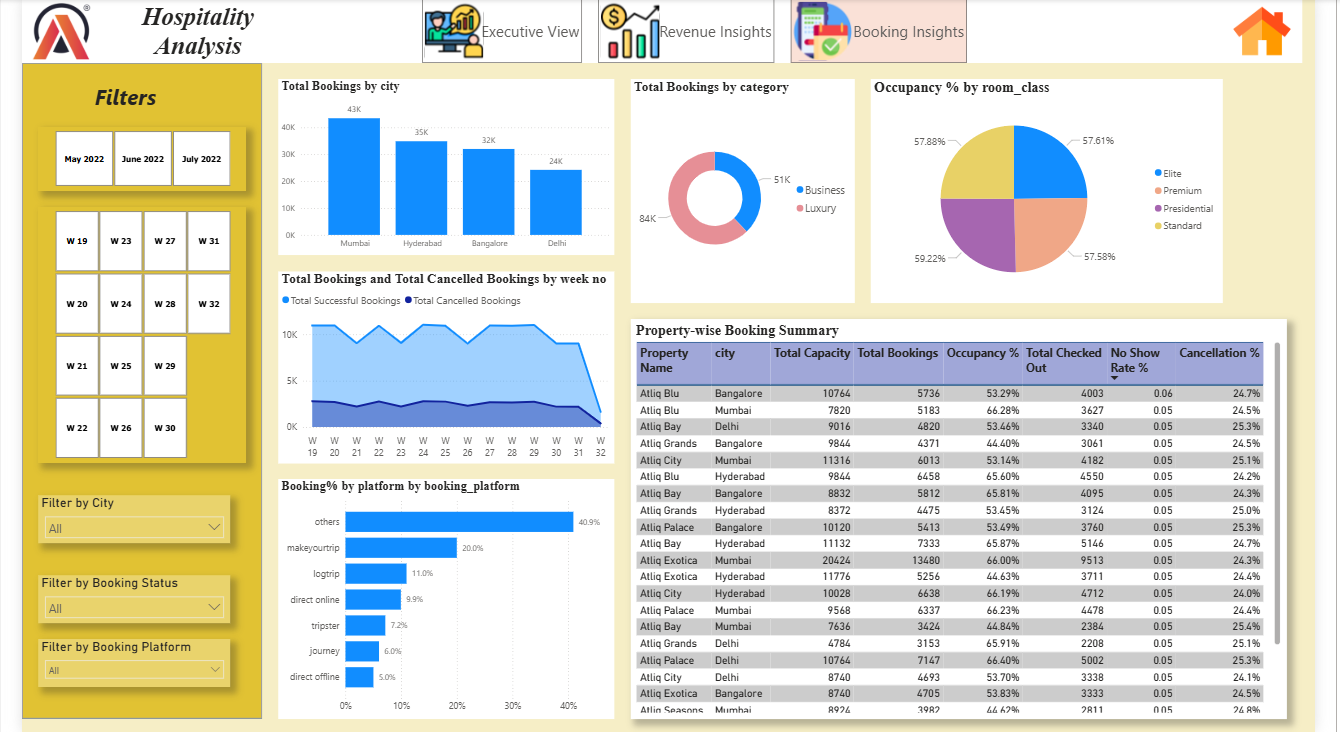

Layout of this report page (visuals, bound fields, positions):
{"tool":"powerbi","page":{"name":"Booking Insights","canvas":[1940,1100],"ordinal":3},"visuals":[{"type":"shape","box":[0,96,360,984],"z":0},{"type":"textbox","box":[0,0,1920,96],"z":1000},{"type":"slicer","title":"Filter by City","fields":{"Values":["dim_hotels.city"]},"box":[24,744,288,72],"z":2000},{"type":"slicer","title":"Filter by Booking Status","fields":{"Values":["fact_bookings.booking_status"]},"box":[24,864,288,72],"z":3000},{"type":"slicer","title":"Filter by Booking Platform","fields":{"Values":["fact_bookings.booking_platform"]},"box":[24,960,288,72],"z":4000},{"type":"slicer","fields":{"Values":["dim_date.mmm yyyy"]},"box":[24,192,312,96],"z":5000},{"type":"slicer","fields":{"Values":["dim_date.week no"]},"box":[24,312,312,384],"z":6000},{"type":"image","box":[0,0,120,96],"z":7000},{"type":"image","box":[1800,0,120,96],"z":8000},{"type":"textbox","box":[120,0,288,96],"z":9000},{"type":"actionButton","box":[600,0,240,96],"z":10000},{"type":"actionButton","box":[864,0,264,96],"z":11000},{"type":"actionButton","box":[1152,0,264,96],"z":12000},{"type":"textbox","box":[72,120,168,72],"z":13000},{"type":"columnChart","title":"Total Bookings by city","fields":{"Y":["DAX Measures.Total Successful Bookings"],"Category":["dim_hotels.city"]},"box":[384,120,504,264],"z":14000},{"type":"areaChart","title":"Total Bookings and Total Cancelled Bookings by week no","fields":{"Y":["DAX Measures.Total Successful Bookings","DAX Measures.Total Cancelled Bookings"],"Category":["dim_date.week no"]},"box":[384,408,504,288],"z":15000},{"type":"donutChart","title":"Total Bookings by category","fields":{"Category":["dim_hotels.category"],"Y":["DAX Measures.Total Successful Bookings"]},"box":[912,120,336,336],"z":16000},{"type":"tableEx","title":"Property-wise Booking Summary","fields":{"Values":["dim_hotels.property_name","dim_hotels.city","DAX Measures.Total Capacity","DAX Measures.Total Successful Bookings","DAX Measures.Occupancy %","DAX Measures.Total Checked Out","DAX Measures.No Show Rate %","DAX Measures.Cancellation %"]},"box":[912,480,984,600],"z":17000},{"type":"clusteredBarChart","fields":{"Y":["DAX Measures.Booking% by platform"],"Category":["fact_bookings.booking_platform"]},"box":[384,720,504,360],"z":18000},{"type":"pieChart","fields":{"Category":["dim_rooms.room_class"],"Y":["DAX Measures.Occupancy %"]},"box":[1272,120,528,336],"z":19000}]}

Visuals, with their boxes on the page's 1940x1100 design canvas (x1, y1, x2, y2). These are canvas units, not pixel positions in the 1340x732 screenshot, which may show the page scaled, cropped or inside an application window:
shape: left=0, top=96, right=360, bottom=1080
textbox: left=0, top=0, right=1920, bottom=96
"Filter by City" slicer: left=24, top=744, right=312, bottom=816
"Filter by Booking Status" slicer: left=24, top=864, right=312, bottom=936
"Filter by Booking Platform" slicer: left=24, top=960, right=312, bottom=1032
slicer - dim_date.mmm yyyy: left=24, top=192, right=336, bottom=288
slicer - dim_date.week no: left=24, top=312, right=336, bottom=696
image: left=0, top=0, right=120, bottom=96
image: left=1800, top=0, right=1920, bottom=96
textbox: left=120, top=0, right=408, bottom=96
actionButton: left=600, top=0, right=840, bottom=96
actionButton: left=864, top=0, right=1128, bottom=96
actionButton: left=1152, top=0, right=1416, bottom=96
textbox: left=72, top=120, right=240, bottom=192
"Total Bookings by city" columnChart: left=384, top=120, right=888, bottom=384
"Total Bookings and Total Cancelled Bookings by week no" areaChart: left=384, top=408, right=888, bottom=696
"Total Bookings by category" donutChart: left=912, top=120, right=1248, bottom=456
"Property-wise Booking Summary" tableEx: left=912, top=480, right=1896, bottom=1080
clusteredBarChart - DAX Measures.Booking% by platform x fact_bookings.booking_platform: left=384, top=720, right=888, bottom=1080
pieChart - dim_rooms.room_class x DAX Measures.Occupancy %: left=1272, top=120, right=1800, bottom=456
